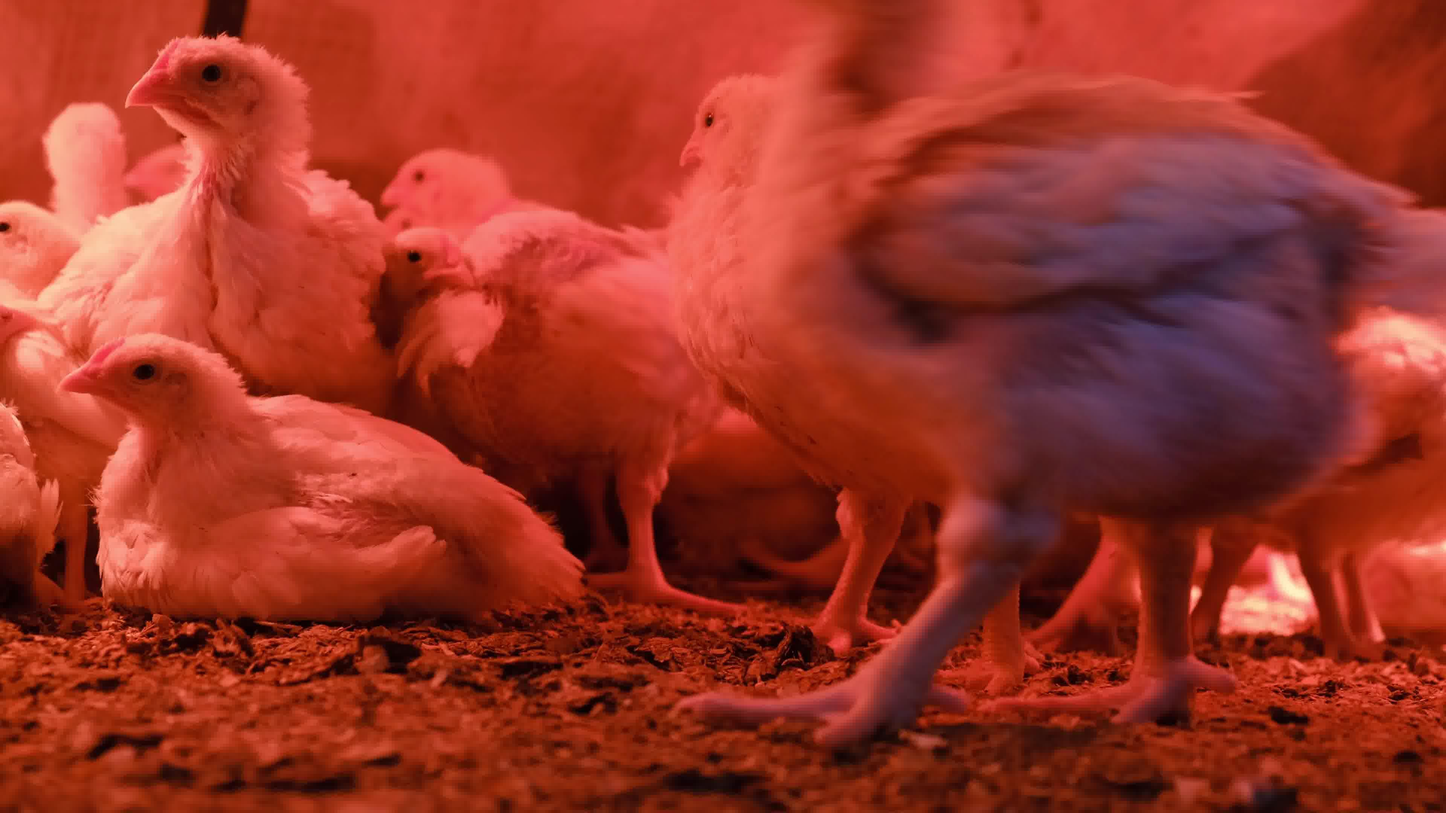AbNormal: (57, 335, 582, 617), (0, 286, 44, 599)
Normal: (766, 0, 1403, 751), (673, 74, 1070, 682), (381, 143, 765, 614), (42, 34, 396, 410), (1265, 301, 1446, 657), (4, 200, 141, 613), (369, 215, 480, 398), (46, 98, 135, 225)
